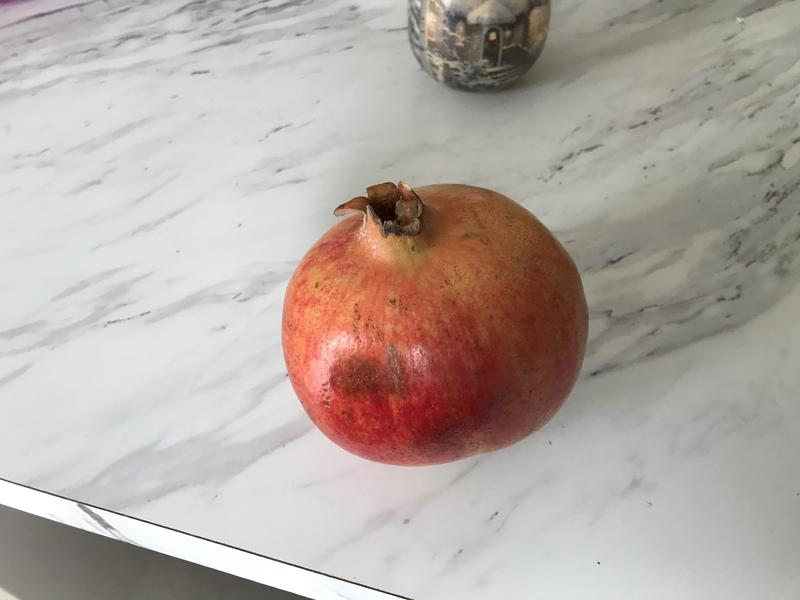pomegranate: (271, 166, 599, 474)
